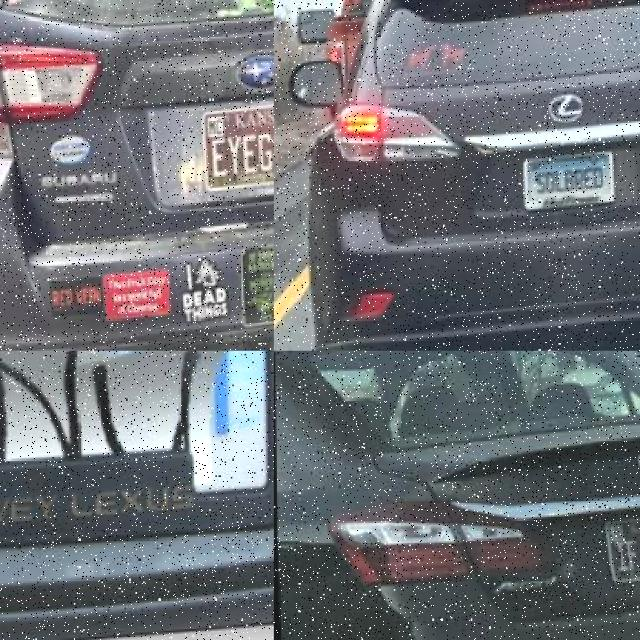licenseplate: (0, 351, 269, 535), (199, 108, 274, 197), (521, 156, 614, 214), (602, 522, 640, 589)
